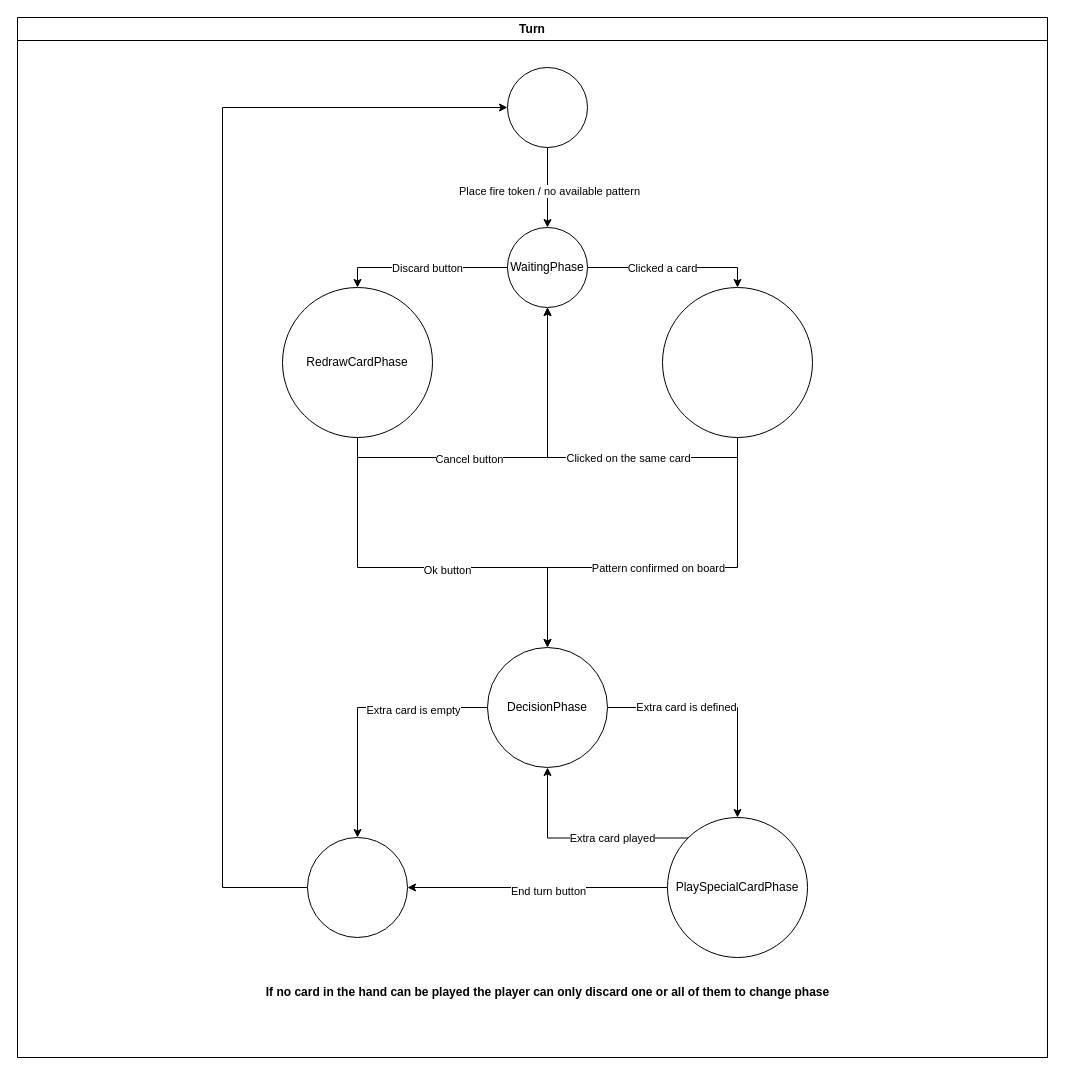
The diagram is 1065 pixels wide and 1075 high, and some of its shapes have lost their labels. Here are the shapes that lost their labels. From the top down, the centre of each, then its label:
At (x=547, y=107): "WindPhase".
At (x=737, y=362): "PlayStandardCardPhase".
At (x=357, y=887): "EndTurnPhase".
